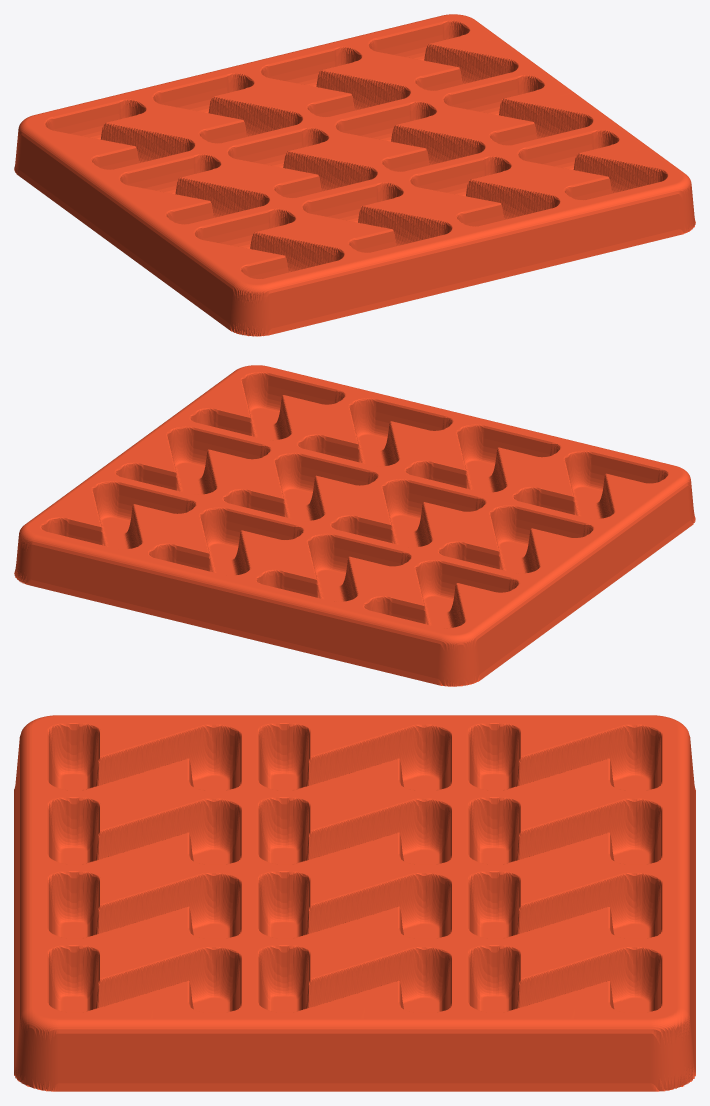
The model's file is mold.glb.
The picture shows the model from 3 angles, top to bottom: view 1: azimuth 30°, elevation 25°; view 2: azimuth 150°, elevation 25°; view 3: azimuth 270°, elevation 25°; orthographic projection. The views are drawn at different scales.
Visible parts, largest first — view 1: geometry_0; view 2: geometry_0; view 3: geometry_0.
Part boxes in pixels (x1,y1,x2,y2): geometry_0: [14, 14, 695, 336]; geometry_0: [14, 365, 695, 686]; geometry_0: [14, 715, 695, 1091].
Bounding box in the file's own units: 0.1515 × 0.0145 × 0.1374.
